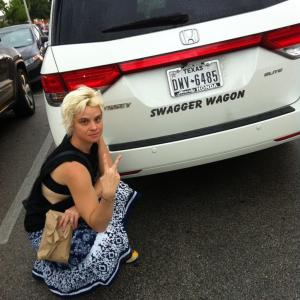Vehicle-registration-plate: (168, 64, 223, 96)
